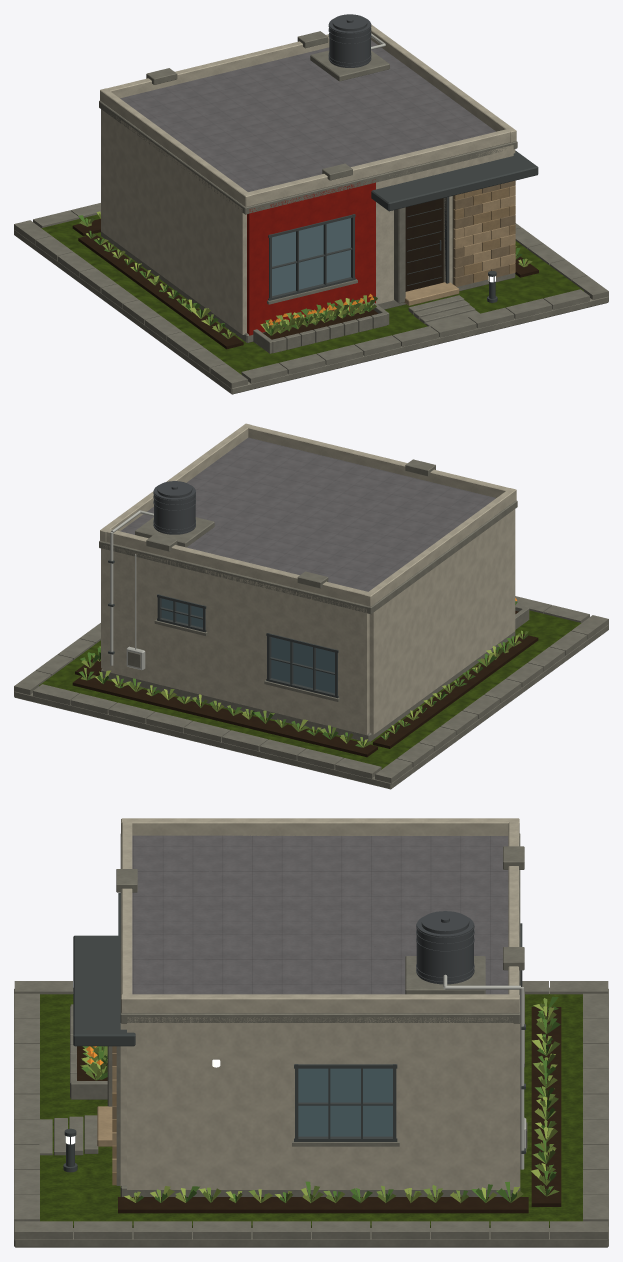
Rendered from casa_basica.fbx.
3 views of the same model, one above another, from view 1: azimuth 30°, elevation 25°; view 2: azimuth 150°, elevation 25°; view 3: azimuth 270°, elevation 25° (orthographic). The views are drawn at different scales.
Parts seen in each view (by area): view 1: Casa_Basica_01; view 2: Casa_Basica_01; view 3: Casa_Basica_01.
Boxes of the visible parts, <box> form: Casa_Basica_01: <box>14,14,608,394</box>; Casa_Basica_01: <box>14,423,608,789</box>; Casa_Basica_01: <box>14,818,608,1247</box>.
Bounding box in the file's own units: 1000 × 487 × 1000.
21 materials, 11 textured.
